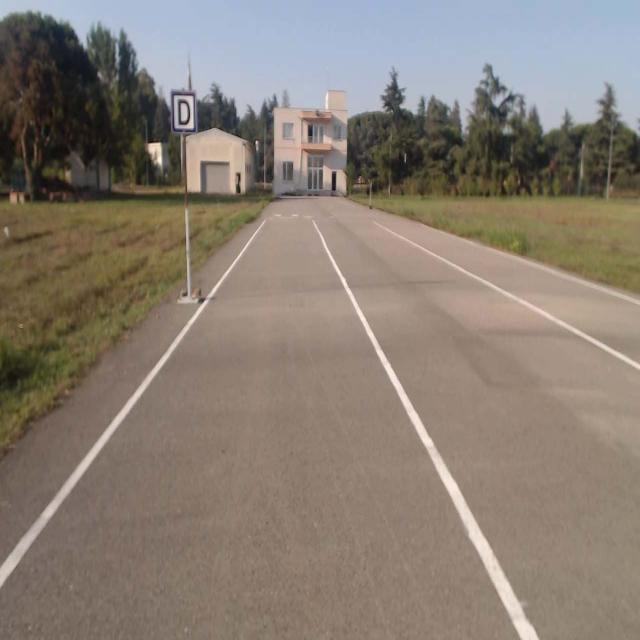durak: (171, 91, 197, 133)
